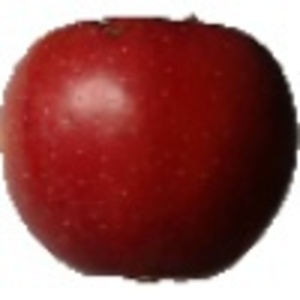maçã braeburn: (1, 12, 297, 287)
